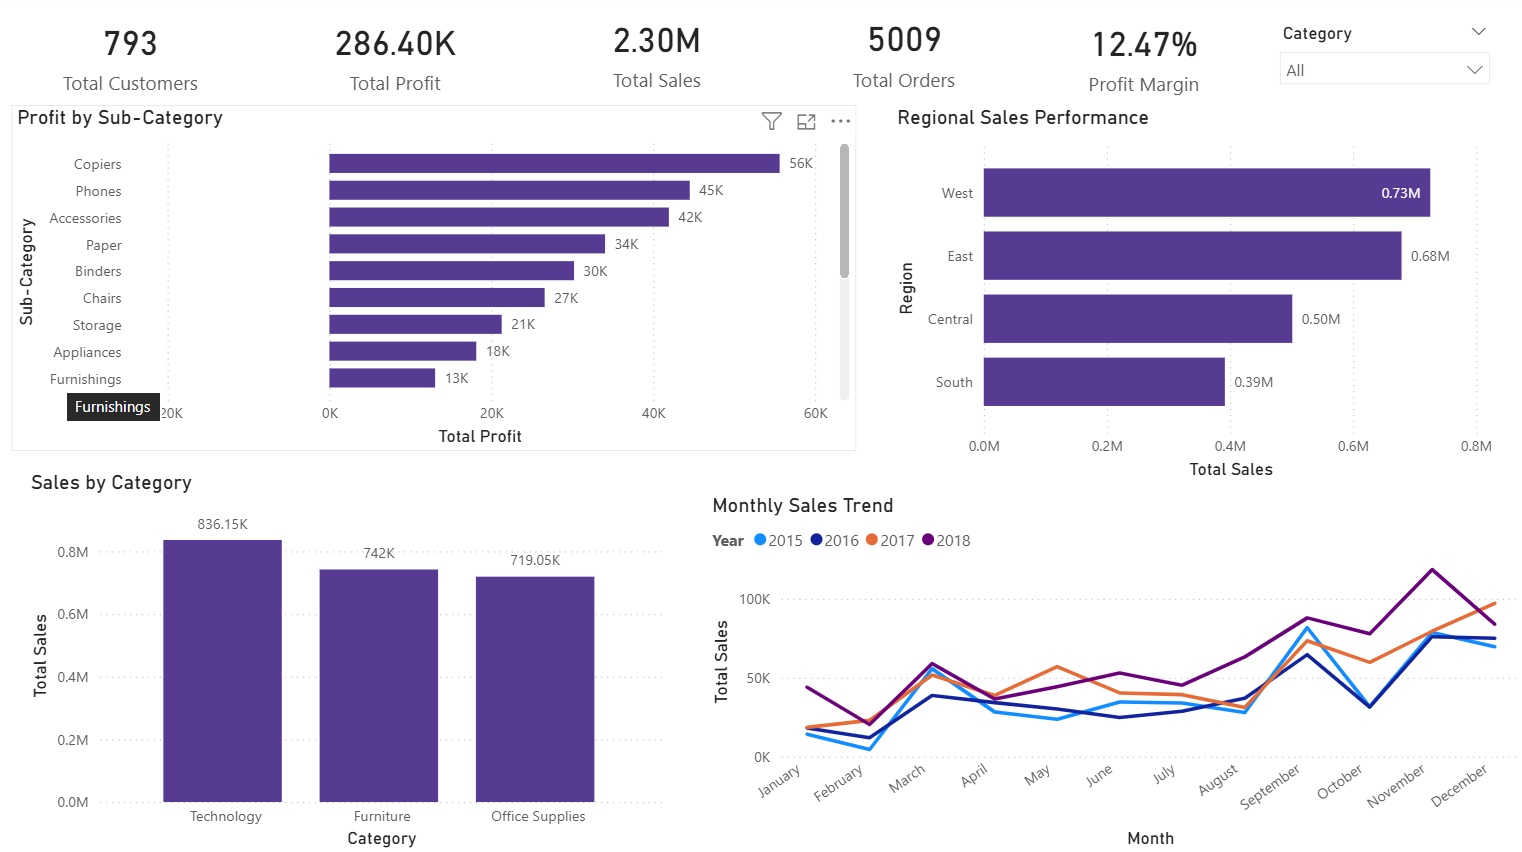

What the dashboard file says about the page in this screenshot:
{"tool":"powerbi","page":{"name":"Page 1","canvas":[1280,720],"ordinal":0},"visuals":[{"type":"card","fields":{"Values":["cleaned_sales.Total Customers"]},"box":[9.6,0,200.3,98.8],"z":0},{"type":"card","fields":{"Values":["cleaned_sales.Total Orders"]},"box":[668.3,1.4,181.1,90.6],"z":1000},{"type":"card","fields":{"Values":["cleaned_sales.Total Profit"]},"box":[223.7,0,216.8,98.8],"z":2000},{"type":"card","fields":{"Values":["cleaned_sales.Total Sales"]},"box":[474.8,6.9,152.3,78.2],"z":3000},{"type":"card","fields":{"Values":["cleaned_sales.Profit Margin"]},"box":[864.5,2.7,189.4,93.3],"z":4000},{"type":"lineChart","title":"Monthly Sales Trend","fields":{"Category":["cleaned_sales.Order Date.Variation.Date Hierarchy.Month"],"Y":["cleaned_sales.Total Sales"],"Series":["cleaned_sales.Order Date.Variation.Date Hierarchy.Year"]},"box":[592.8,417.2,687.5,303.3],"z":5000},{"type":"clusteredColumnChart","title":"Sales by Category","fields":{"Category":["cleaned_sales.Category"],"Y":["cleaned_sales.Total Sales"]},"box":[20.6,397.9,540.7,322.5],"z":5001},{"type":"clusteredBarChart","title":"Regional Sales Performance","fields":{"Category":["cleaned_sales.Region"],"Y":["cleaned_sales.Total Sales"]},"box":[747.9,91.9,511.8,318.4],"z":5002},{"type":"clusteredBarChart","title":"Profit by Sub-Category","fields":{"Category":["cleaned_sales.Sub-Category"],"Y":["cleaned_sales.Total Profit"]},"box":[9.6,91.9,708.1,290.9],"z":5003},{"type":"slicer","fields":{"Values":["cleaned_sales.Category"]},"box":[1063.5,19.2,196.2,72.7],"z":5004}]}

Visuals, with their boxes in screenshot pixels (x1, y1, x2, y2), scaled from the page's 1280x720 canvas onto the 1522x852 screenshot:
card - cleaned_sales.Total Customers: {"left": 11, "top": 0, "right": 250, "bottom": 117}
card - cleaned_sales.Total Orders: {"left": 795, "top": 2, "right": 1010, "bottom": 109}
card - cleaned_sales.Total Profit: {"left": 266, "top": 0, "right": 524, "bottom": 117}
card - cleaned_sales.Total Sales: {"left": 565, "top": 8, "right": 746, "bottom": 101}
card - cleaned_sales.Profit Margin: {"left": 1028, "top": 3, "right": 1253, "bottom": 114}
"Monthly Sales Trend" lineChart: {"left": 705, "top": 494, "right": 1521, "bottom": 851}
"Sales by Category" clusteredColumnChart: {"left": 24, "top": 471, "right": 667, "bottom": 851}
"Regional Sales Performance" clusteredBarChart: {"left": 889, "top": 109, "right": 1498, "bottom": 486}
"Profit by Sub-Category" clusteredBarChart: {"left": 11, "top": 109, "right": 853, "bottom": 453}
slicer - cleaned_sales.Category: {"left": 1265, "top": 23, "right": 1498, "bottom": 109}
